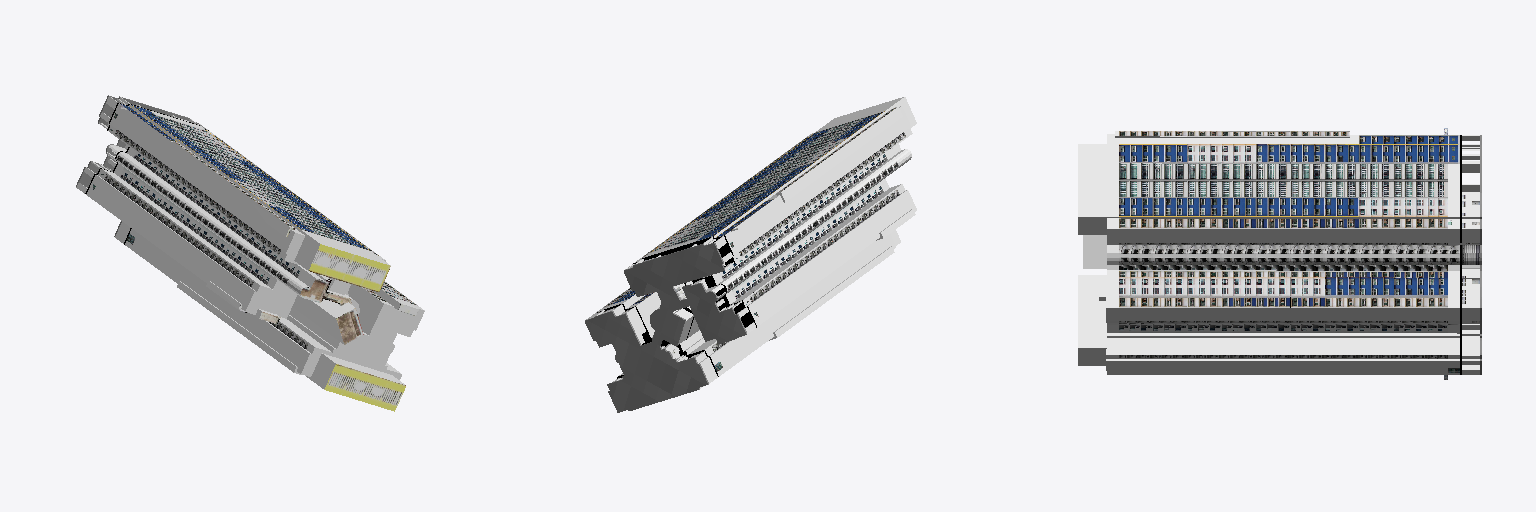
3 views of the same model, side by side, from view 1: azimuth 30°, elevation 25°; view 2: azimuth 150°, elevation 25°; view 3: azimuth 270°, elevation 25° (orthographic).
Visible parts, largest first — view 1: polygon.775; view 2: polygon.775; view 3: polygon.775.
Boxes of the visible parts, x1=… form: polygon.775: x1=76, y1=95, x2=424, y2=411; polygon.775: x1=585, y1=97, x2=916, y2=412; polygon.775: x1=1078, y1=128, x2=1481, y2=379.
Size of the model in its own units: 47.25 by 55.42 by 99.75.
1 materials, 1 textured.